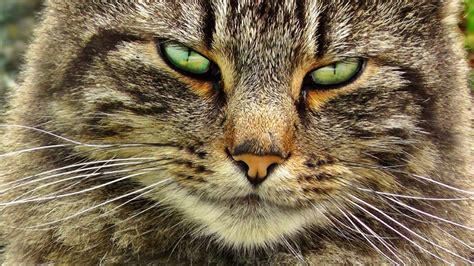cat: (1, 1, 474, 266)
